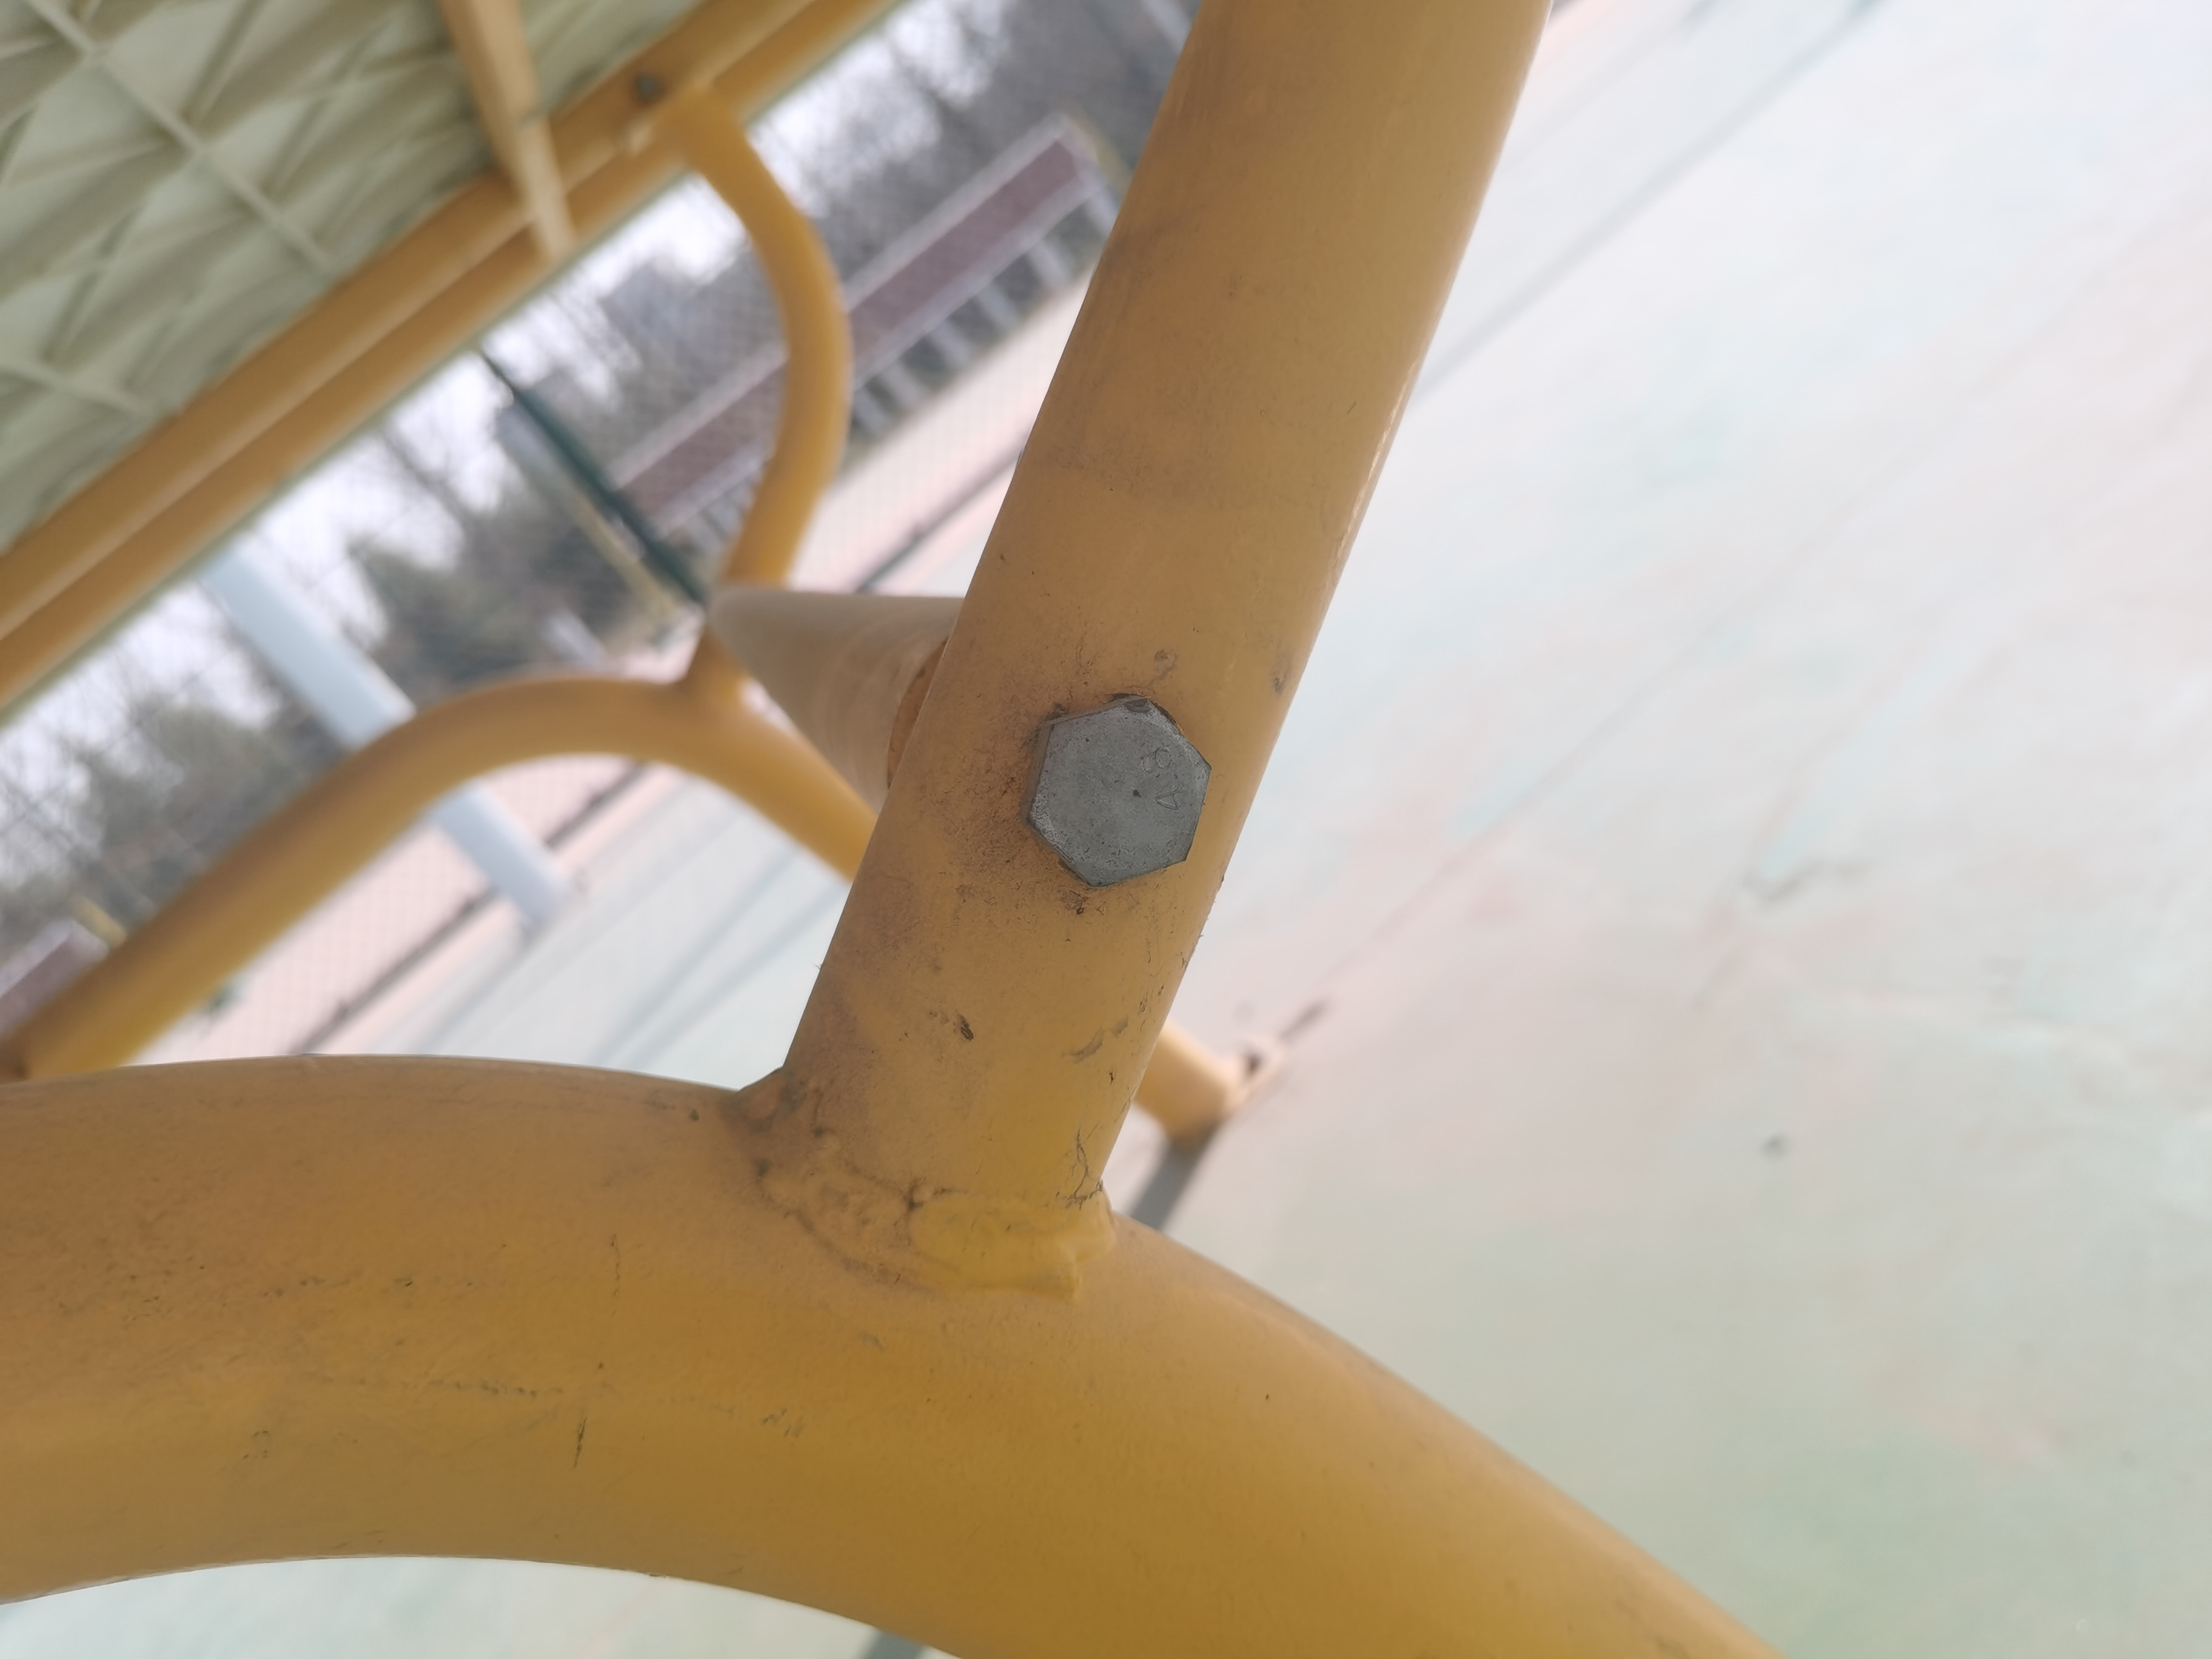bolt_a: (1022, 694, 1214, 890)
